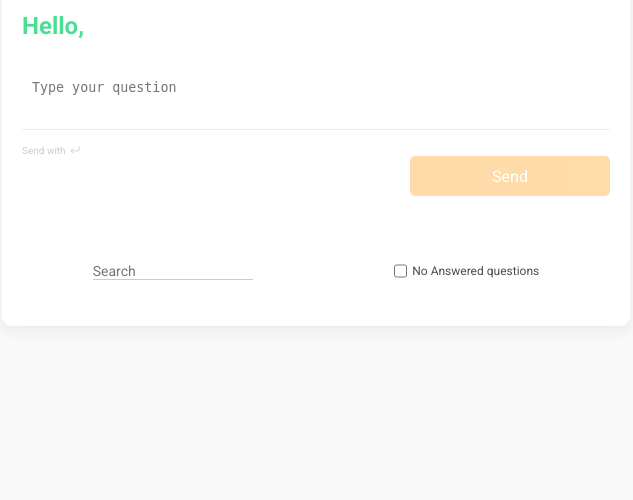
Home component › should be able to create a new question
Step 1. Type "What time is it?" into the text box with placeholder "Type your question" → (316, 100), box 22,70 -> 610,130
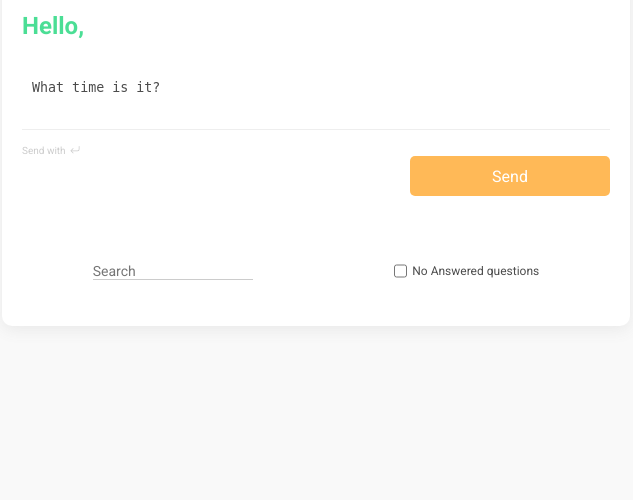
Step 2. Press Enter in the text box, box 22,70 -> 610,130
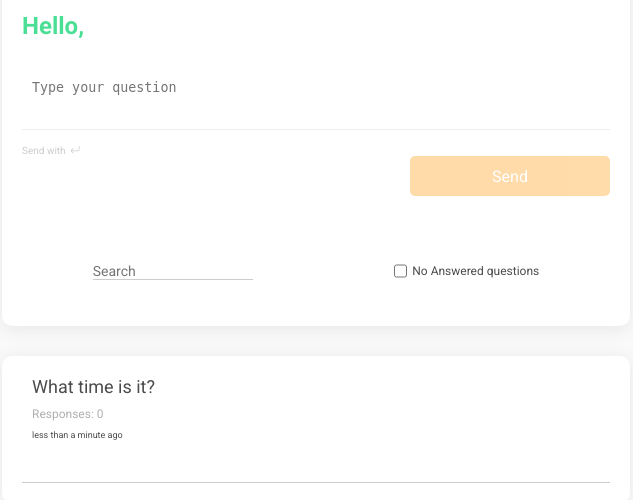
Now the text "What time is it?" is shown, box 32,376 -> 155,397
